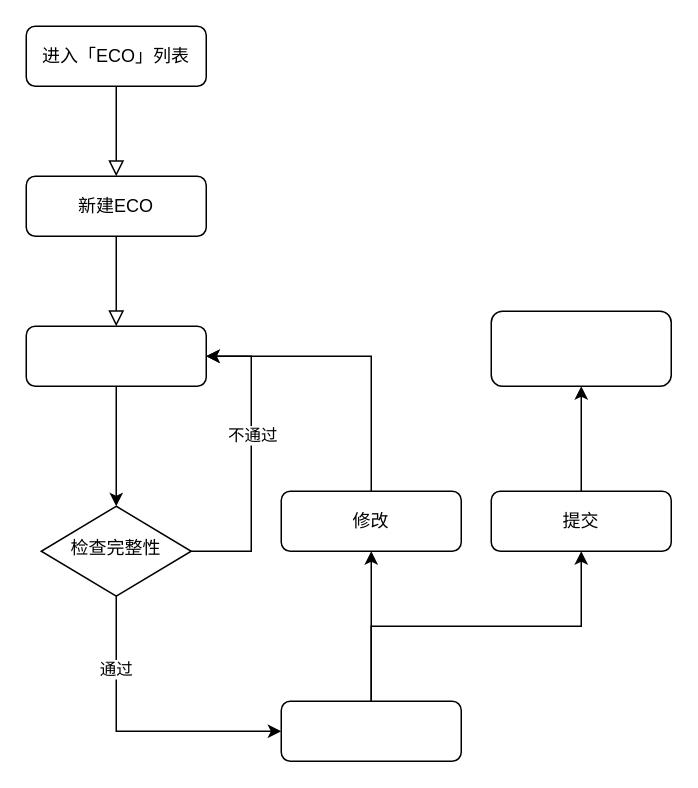
Some shapes in this 698 by 788 pixel diagram are drawn without their labels. Each missing label, with the box of its shape:
ECO信息: (280, 700, 461, 761)
填写信息: (25, 325, 206, 386)
推送至Capital: (490, 310, 671, 386)
